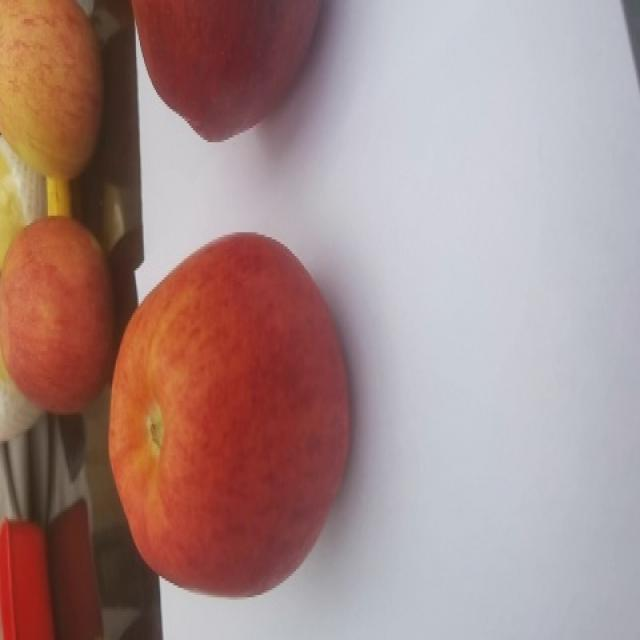Apple: (107, 230, 352, 598), (128, 0, 324, 142), (0, 214, 116, 415), (0, 0, 104, 181)
